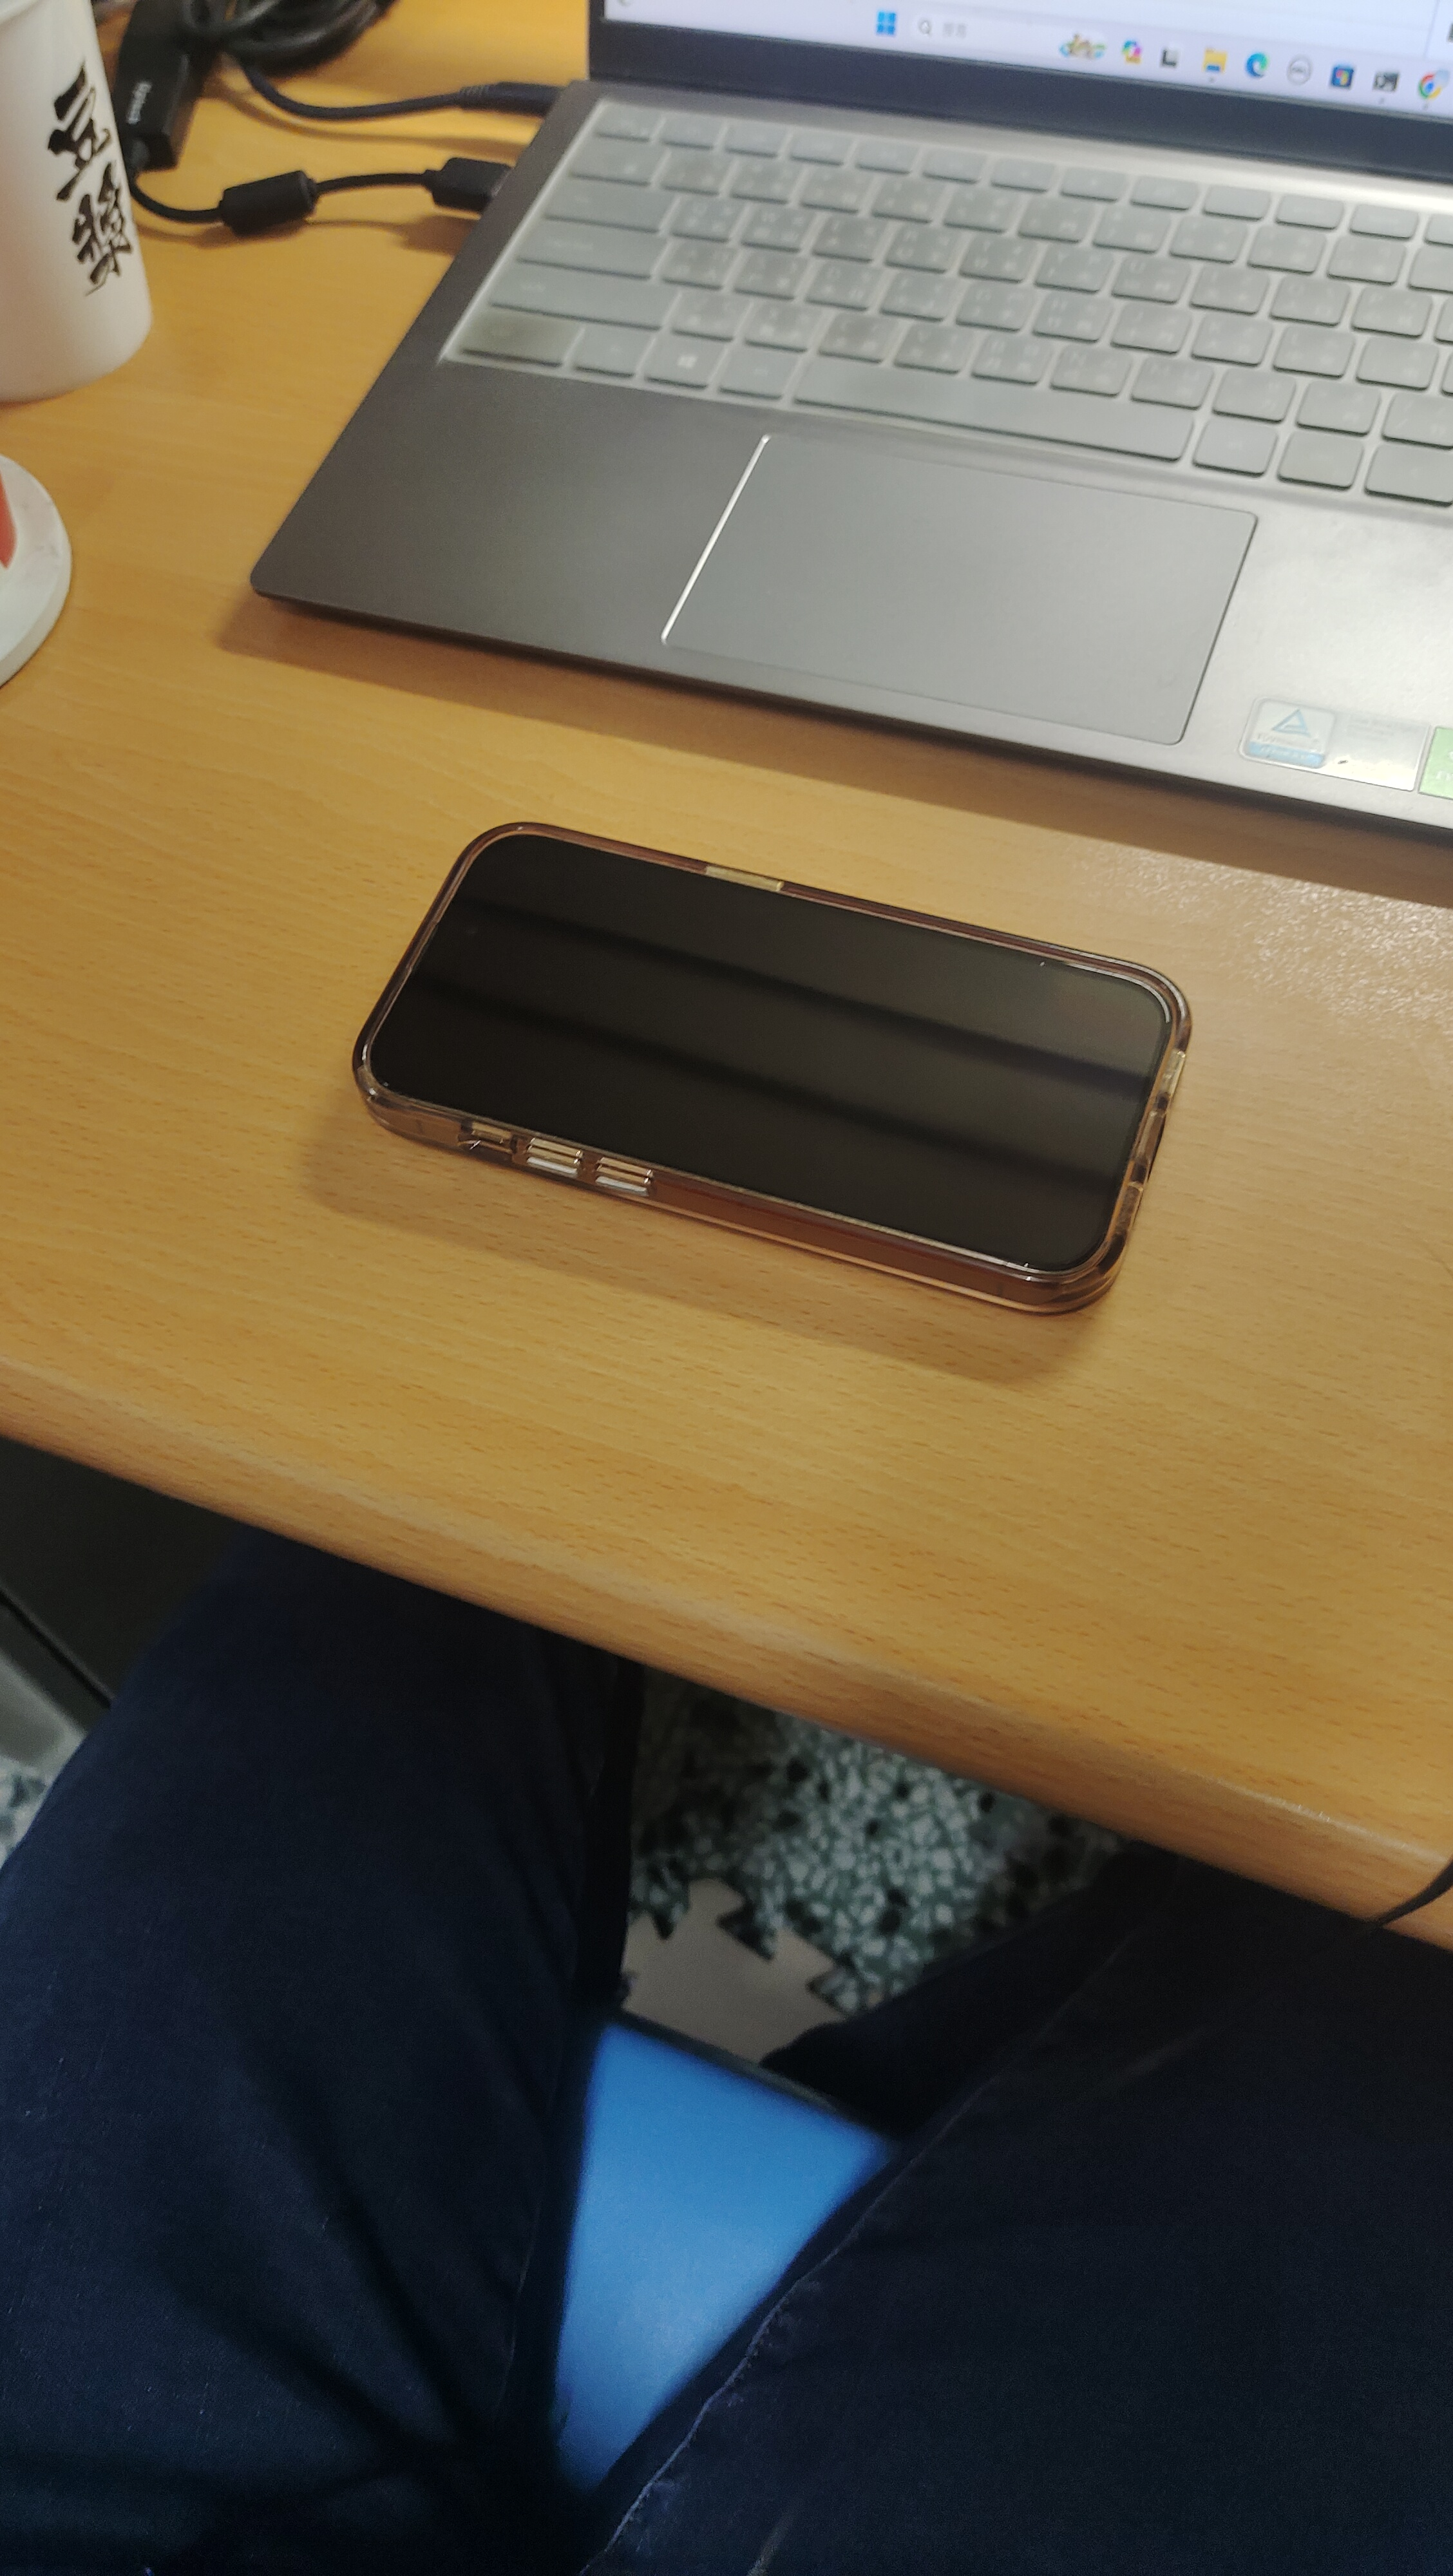iphone: (352, 817, 1191, 1322)
